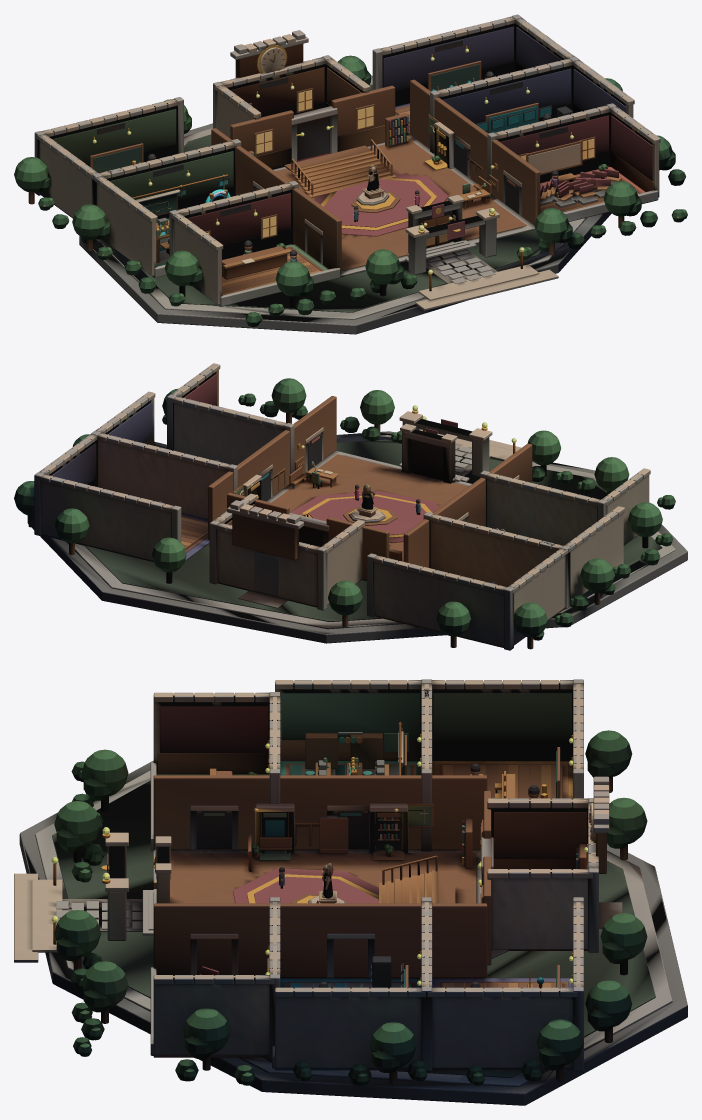
File: school-overview.original.glb
3 renders of one model, top to bottom at view 1: azimuth 30°, elevation 25°; view 2: azimuth 150°, elevation 25°; view 3: azimuth 270°, elevation 25°, orthographic. The views are drawn at different scales.
Parts seen in each view (by area): view 1: ROOM_hall__shell, SCHOOL__campus, ROOM_visitantes__shell, ROOM_preceptoria__shell, ROOM_electronica__shell, ROOM_fisica__shell, ROOM_matematica__shell, ROOM_direccion__shell, ROOM_programacion__shell, ROOM_logros__shell; view 2: SCHOOL__campus, ROOM_hall__shell, ROOM_direccion__shell, ROOM_matematica__shell, ROOM_fisica__shell, ROOM_electronica__shell, ROOM_programacion__shell, ROOM_preceptoria__shell, ROOM_visitantes__shell; view 3: SCHOOL__campus, ROOM_hall__shell, ROOM_direccion__shell, ROOM_matematica__shell, ROOM_electronica__shell, ROOM_programacion__shell, ROOM_fisica__shell, ROOM_preceptoria__shell, ROOM_visitantes__shell, ROOM_biblioteca__shell, ROOM_audiovisual__shell.
Part boxes in pixels (<box>): ROOM_hall__shell: <box>211,79,540,277</box>; SCHOOL__campus: <box>14,35,687,334</box>; ROOM_visitantes__shell: <box>487,103,660,221</box>; ROOM_preceptoria__shell: <box>169,181,340,306</box>; ROOM_electronica__shell: <box>92,139,241,277</box>; ROOM_fisica__shell: <box>372,14,574,135</box>; ROOM_matematica__shell: <box>34,97,183,218</box>; ROOM_direccion__shell: <box>213,30,370,161</box>; ROOM_programacion__shell: <box>430,56,634,153</box>; ROOM_logros__shell: <box>424,122,453,170</box>; SCHOOL__campus: <box>14,378,687,649</box>; ROOM_hall__shell: <box>208,396,532,580</box>; ROOM_direccion__shell: <box>209,493,364,610</box>; ROOM_matematica__shell: <box>367,548,568,650</box>; ROOM_fisica__shell: <box>34,434,209,561</box>; ROOM_electronica__shell: <box>423,506,624,609</box>; ROOM_programacion__shell: <box>91,391,237,519</box>; ROOM_preceptoria__shell: <box>480,468,650,545</box>; ROOM_visitantes__shell: <box>167,363,294,485</box>; SCHOOL__campus: <box>14,730,687,1105</box>; ROOM_hall__shell: <box>142,775,493,978</box>; ROOM_direccion__shell: <box>487,776,609,952</box>; ROOM_matematica__shell: <box>432,679,583,799</box>; ROOM_electronica__shell: <box>275,679,432,851</box>; ROOM_programacion__shell: <box>272,897,432,1071</box>; ROOM_fisica__shell: <box>427,897,583,1071</box>; ROOM_preceptoria__shell: <box>150,692,280,850</box>; ROOM_visitantes__shell: <box>150,897,280,1058</box>; ROOM_biblioteca__shell: <box>369,803,408,860</box>; ROOM_audiovisual__shell: <box>255,803,294,860</box>.
Size of the model in its own units: 55.2 by 9.74 by 44.42.
